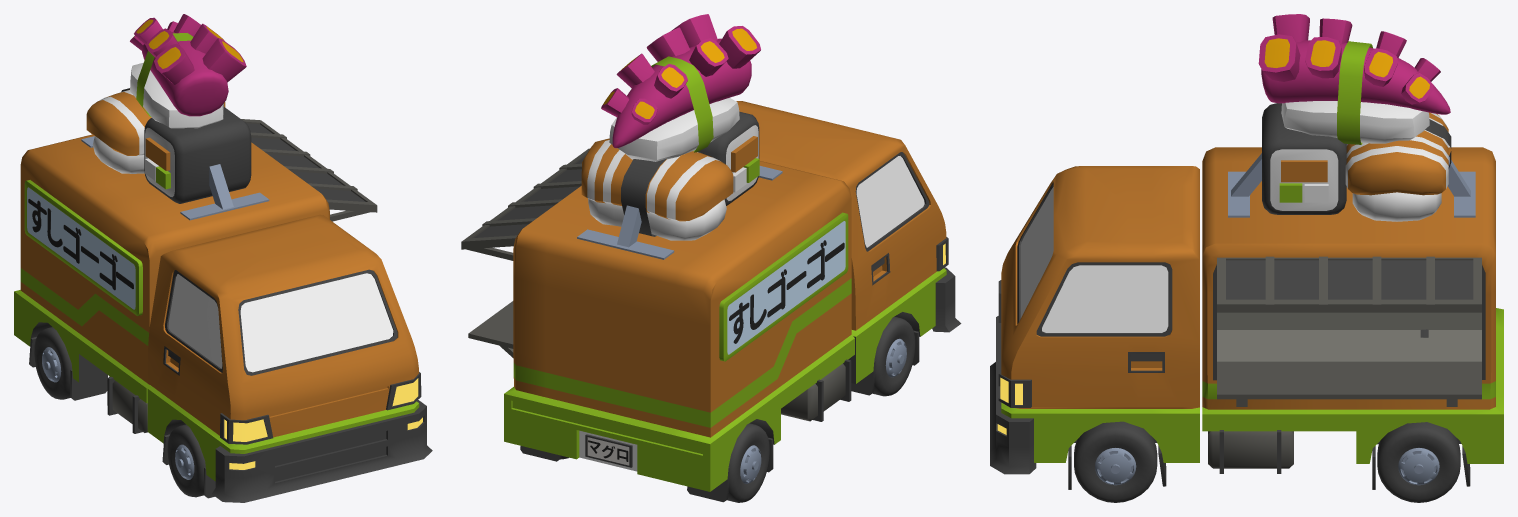
Rendered from Truck.glb.
3 renders of one model, left to right at view 1: azimuth 30°, elevation 25°; view 2: azimuth 150°, elevation 25°; view 3: azimuth 270°, elevation 25°, orthographic. The views are drawn at different scales.
Visible parts, largest first — view 1: Truck; view 2: Truck; view 3: Truck.
Boxes of the visible parts, bbox=[...] form: Truck: bbox=[14, 14, 432, 502]; Truck: bbox=[461, 14, 961, 502]; Truck: bbox=[990, 14, 1503, 502].
Bounding box in the file's own units: 5.1 × 7.31 × 7.98.
Materials: 3 (1 with a texture image).
